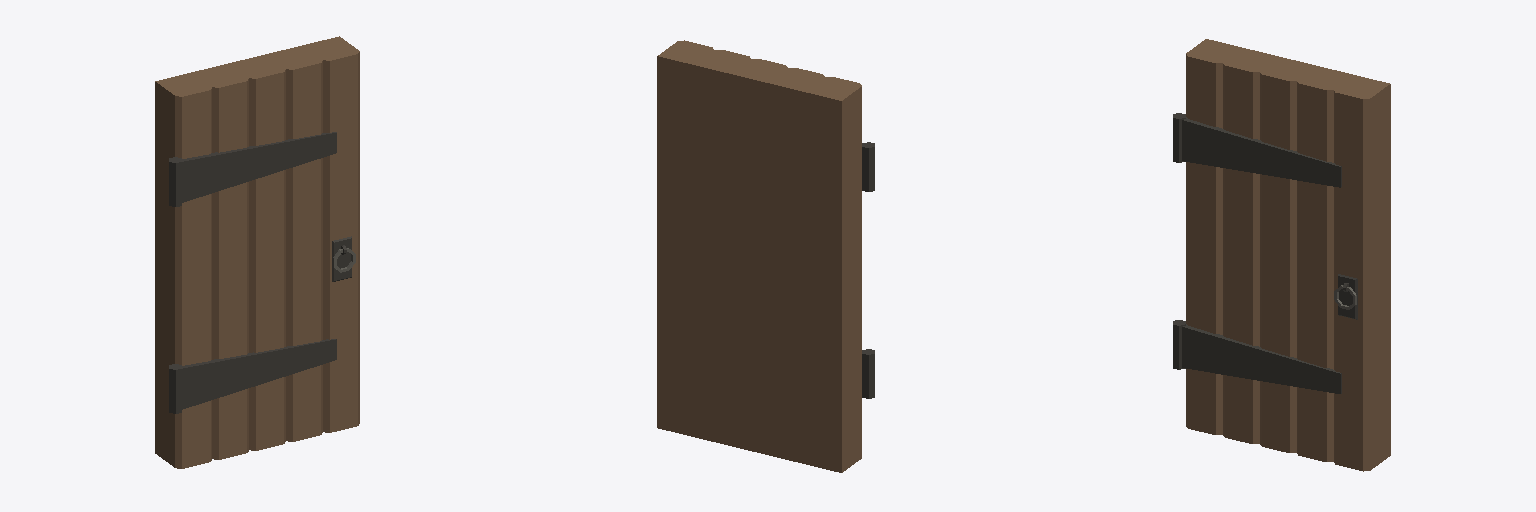
File: dooropened.obj
The picture shows the model from 3 angles: view 1: azimuth 30°, elevation 25°; view 2: azimuth 150°, elevation 25°; view 3: azimuth 330°, elevation 25°; orthographic projection.
Visible parts, largest first — view 1: door:object4, door:object1, door:object2, door:object3; view 2: door:object4, door:object2, door:object1; view 3: door:object4, door:object1, door:object2, door:object3.
Boxes of the visible parts, <box> form: door:object4: <box>155,36,359,468</box>; door:object1: <box>169,132,336,206</box>; door:object2: <box>169,339,336,413</box>; door:object3: <box>332,236,351,281</box>; door:object4: <box>657,40,861,472</box>; door:object2: <box>862,349,874,398</box>; door:object1: <box>862,142,874,191</box>; door:object4: <box>1186,39,1390,471</box>; door:object1: <box>1173,113,1341,187</box>; door:object2: <box>1173,320,1341,393</box>; door:object3: <box>1338,274,1357,319</box>.
Size of the model in its own units: 1.84 by 3.38 by 0.4448.